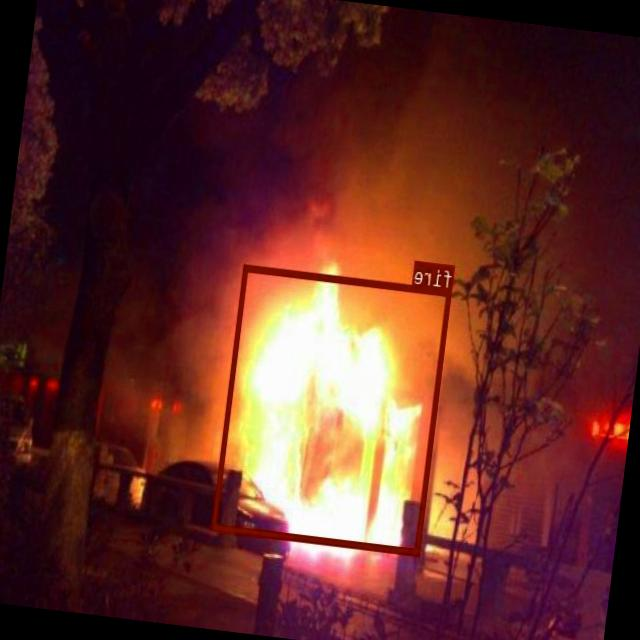fire: (212, 264, 452, 554)
